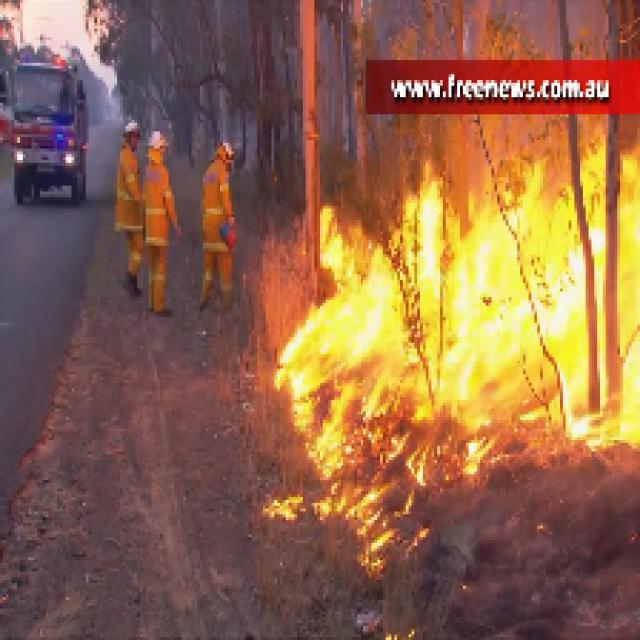fire: (311, 180, 640, 486)
